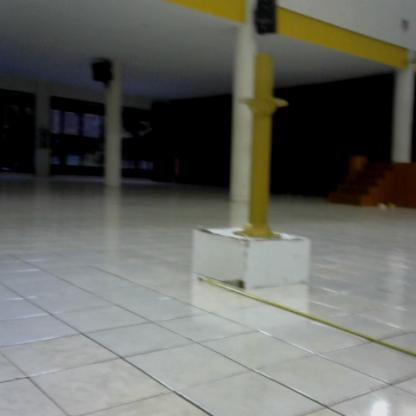pole: (230, 52, 293, 245)
